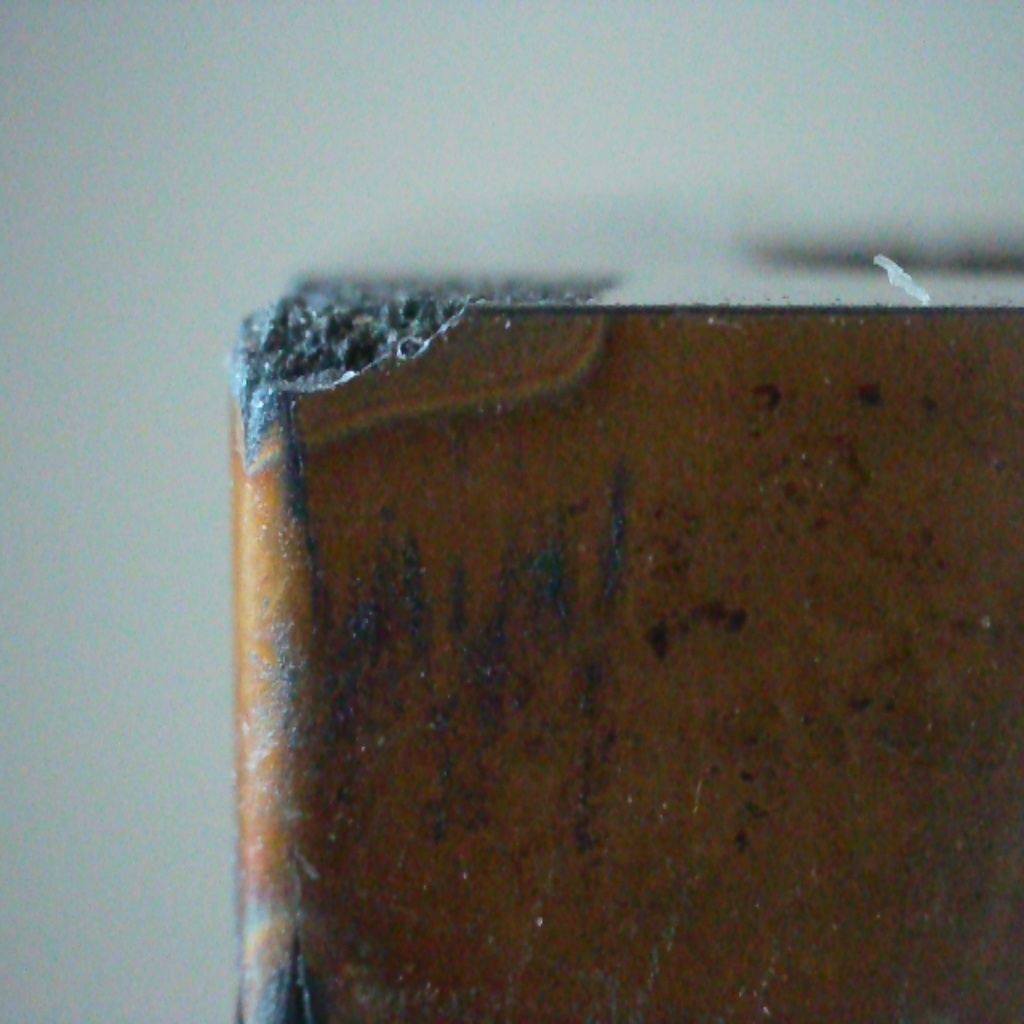flank_wear: (215, 279, 498, 469)
